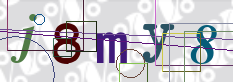8: (50, 20, 83, 66), (189, 24, 218, 65)
j: (9, 11, 38, 64)
m: (94, 31, 129, 67)
y: (140, 22, 175, 65)
